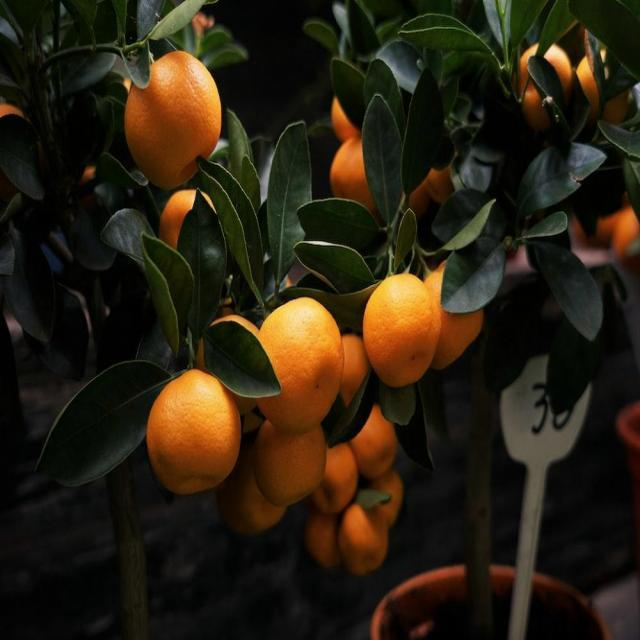Jeruk Sudah Matang: (126, 49, 222, 191), (257, 298, 347, 437), (147, 370, 241, 495), (408, 250, 486, 372), (218, 418, 290, 538), (253, 396, 327, 508), (364, 274, 435, 389), (196, 314, 276, 414), (158, 189, 224, 290), (307, 326, 373, 423), (332, 136, 404, 221), (514, 40, 572, 140), (577, 49, 635, 141), (342, 390, 398, 480), (306, 432, 358, 514), (340, 495, 390, 575), (306, 495, 356, 572), (358, 458, 406, 532), (406, 154, 459, 217), (332, 92, 386, 132), (1, 101, 37, 132)
